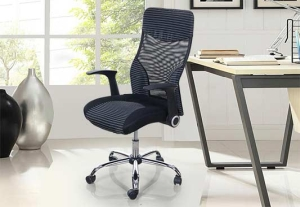chair: (83, 8, 194, 200)
